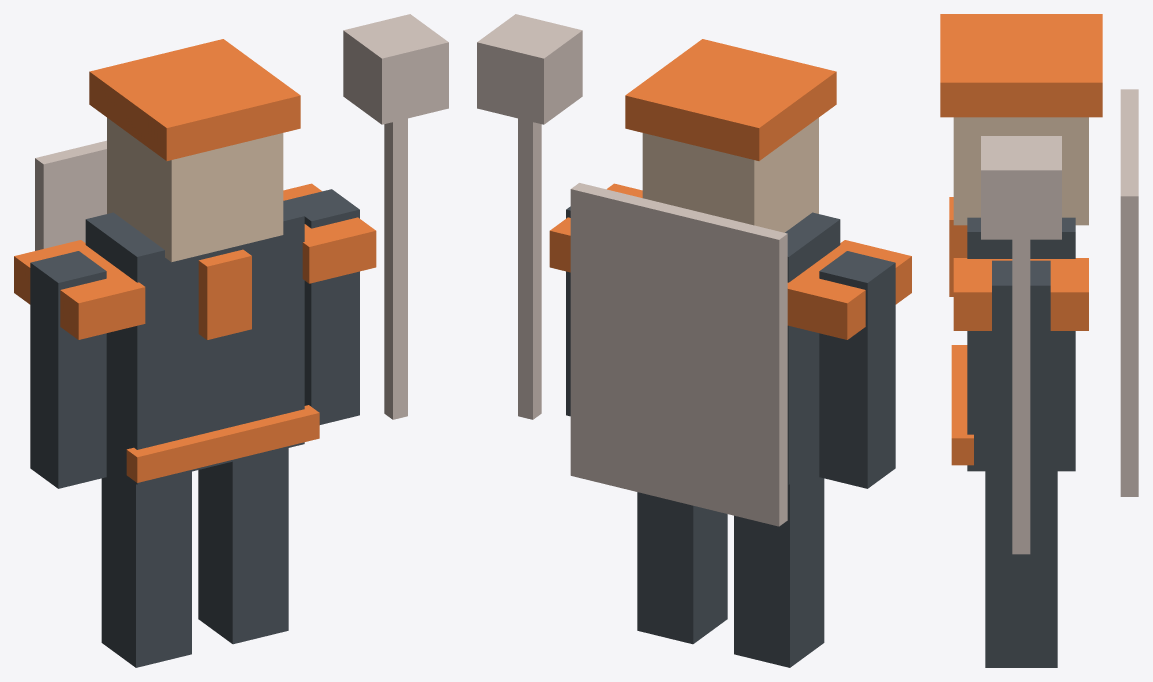
File: 17_noor_trenchmark_guide_near_chainlift.glb
3 views of the same model, side by side, from view 1: azimuth 30°, elevation 25°; view 2: azimuth 150°, elevation 25°; view 3: azimuth 270°, elevation 25° (orthographic). The views are drawn at different scales.
Parts seen in each view (by area): view 1: Noor Trenchmark, Guide near Chainlift; view 2: Noor Trenchmark, Guide near Chainlift; view 3: Noor Trenchmark, Guide near Chainlift.
Part boxes in pixels (box(x1,y1,x2,y2)): Noor Trenchmark, Guide near Chainlift: box(14, 14, 448, 667); Noor Trenchmark, Guide near Chainlift: box(477, 14, 911, 667); Noor Trenchmark, Guide near Chainlift: box(940, 14, 1138, 667).
Size of the model in its own units: 1.12 by 1.53 by 0.474.
